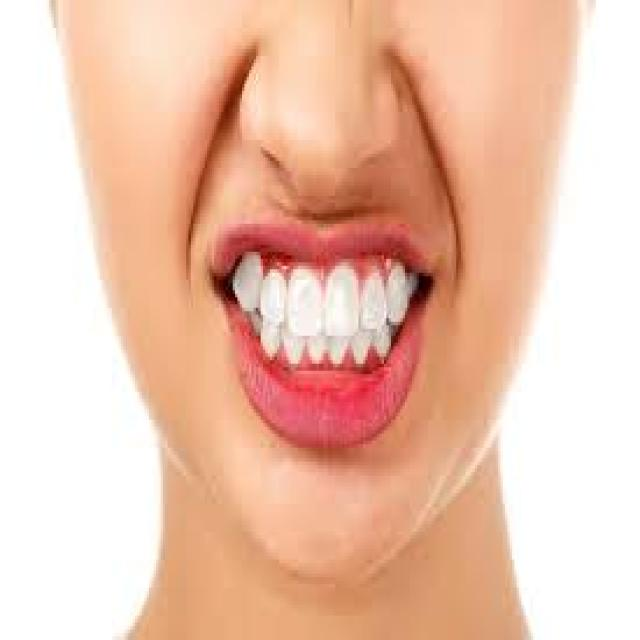tooth: (289, 276, 321, 326), (328, 280, 354, 325), (238, 255, 258, 308), (363, 276, 386, 322), (387, 270, 408, 312), (266, 280, 280, 322), (372, 325, 393, 353), (354, 336, 370, 370), (284, 332, 298, 364), (263, 322, 277, 353), (331, 336, 349, 360), (307, 336, 321, 356)
